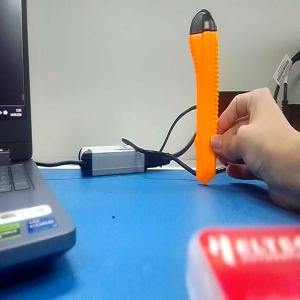estilete: (189, 8, 220, 186)
